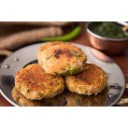cutlet: (36, 43, 88, 76), (14, 66, 64, 95), (67, 64, 109, 95)
